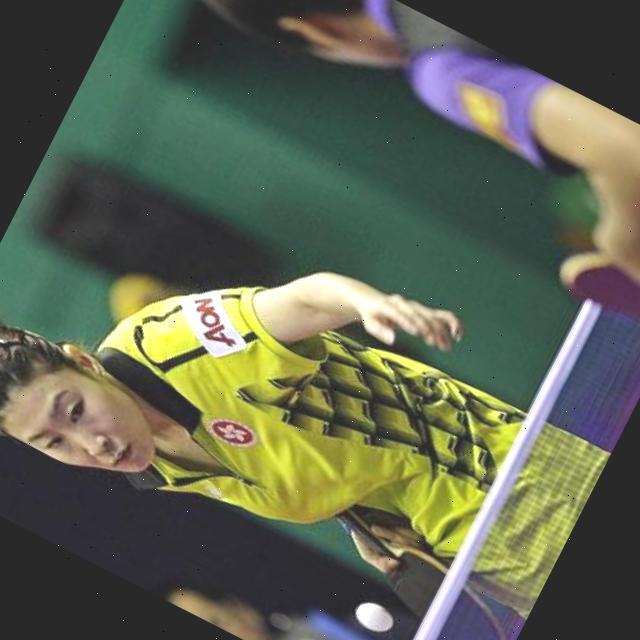ping-pong-ball: (350, 594, 400, 638)
